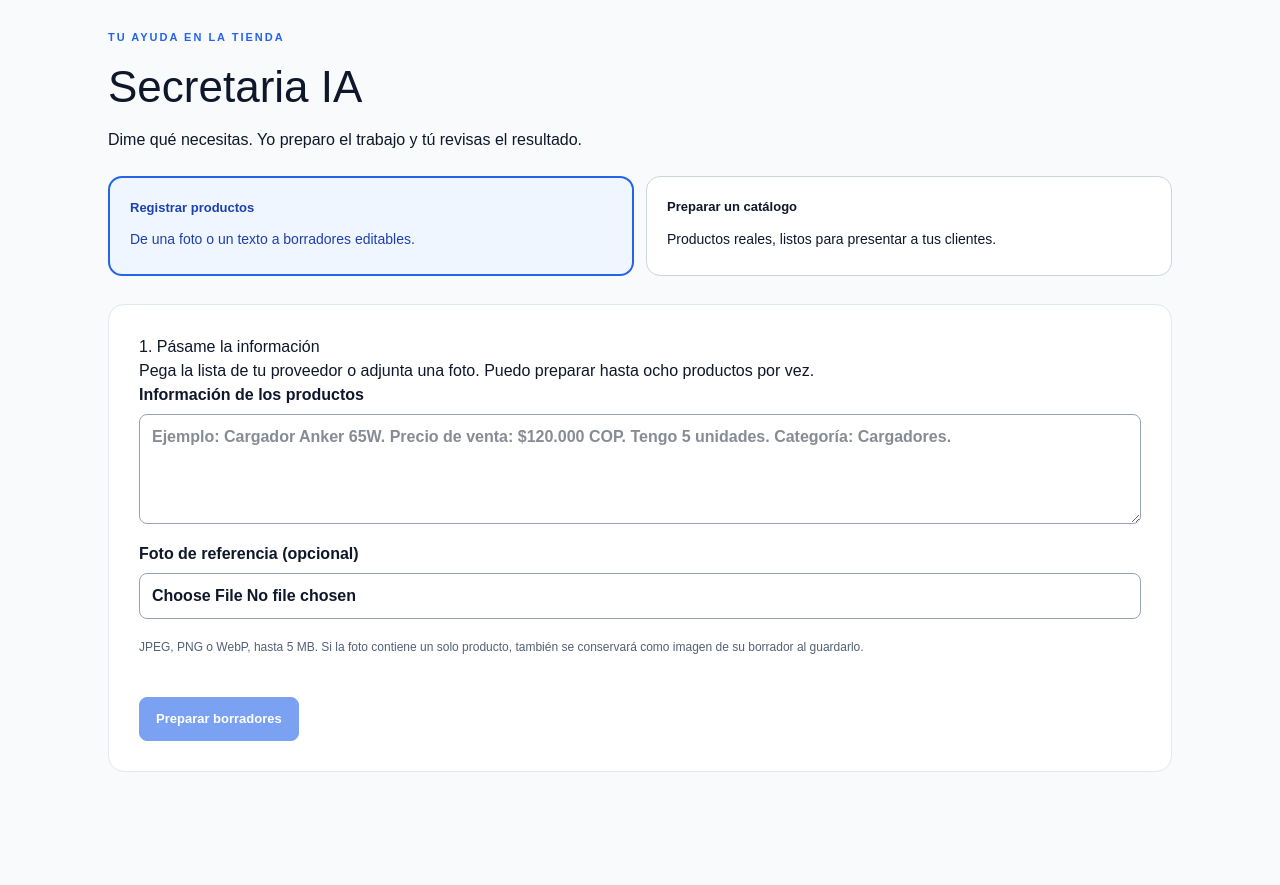
it: can create a brand read from the provider without leaving the review
Type "Mouse Logitech" into the text box labelled "Información de los productos".
click(640, 468); type("Mouse Logitech")  # box [139,414,1141,524]
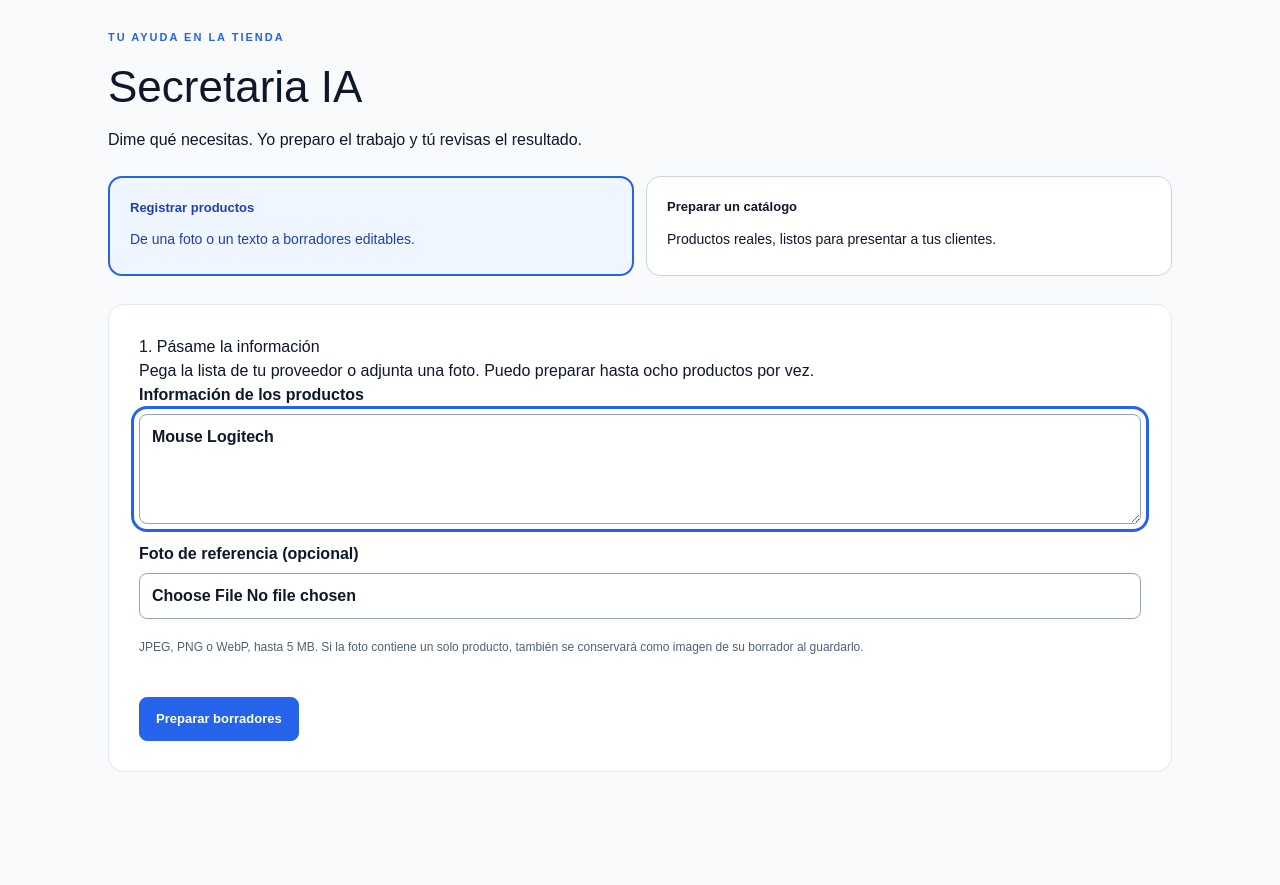
Click the button "Preparar borradores".
click(219, 719)  # box [139,697,299,741]
(page scrolled)
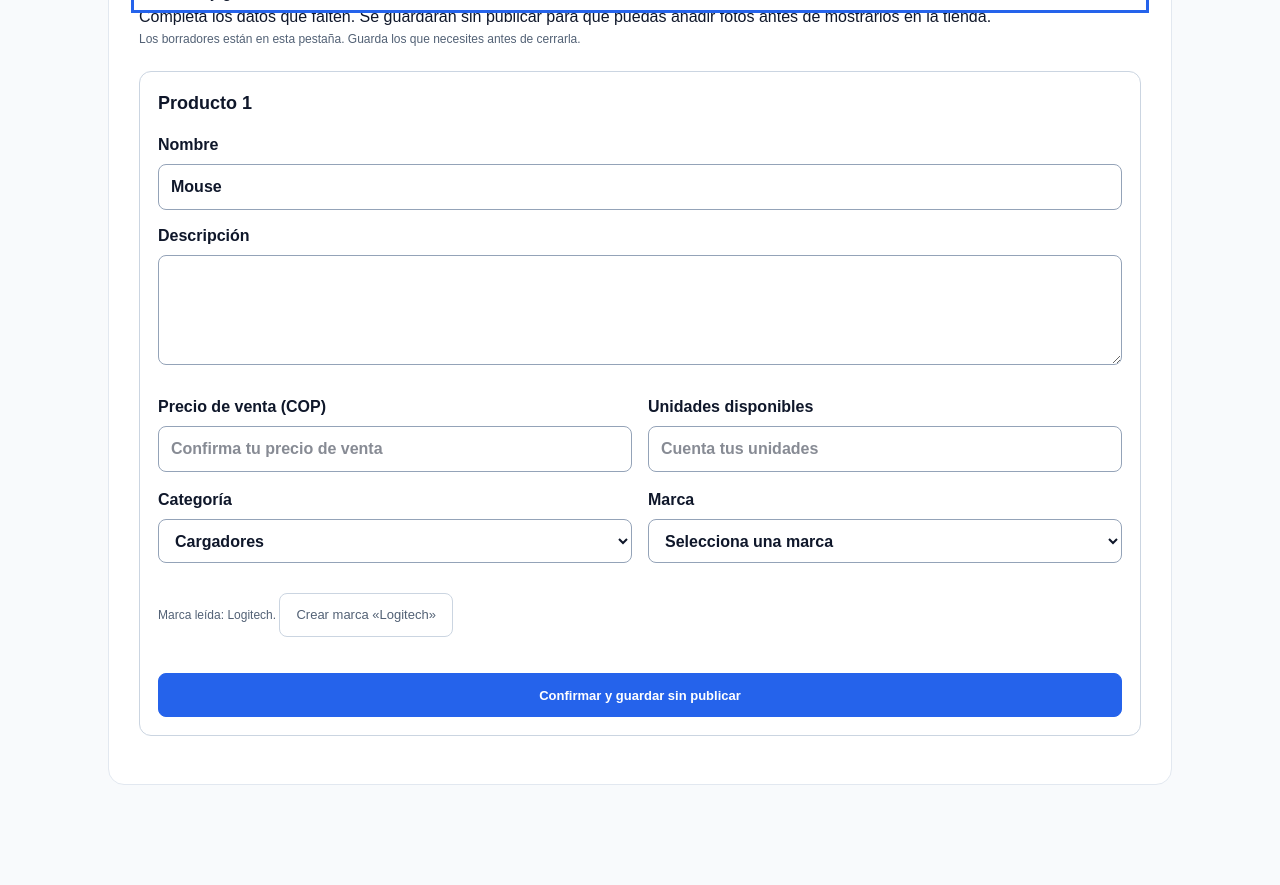
Click the button "Crear marca «Logitech»".
click(366, 615)  # box [279,593,453,637]
(page scrolled)
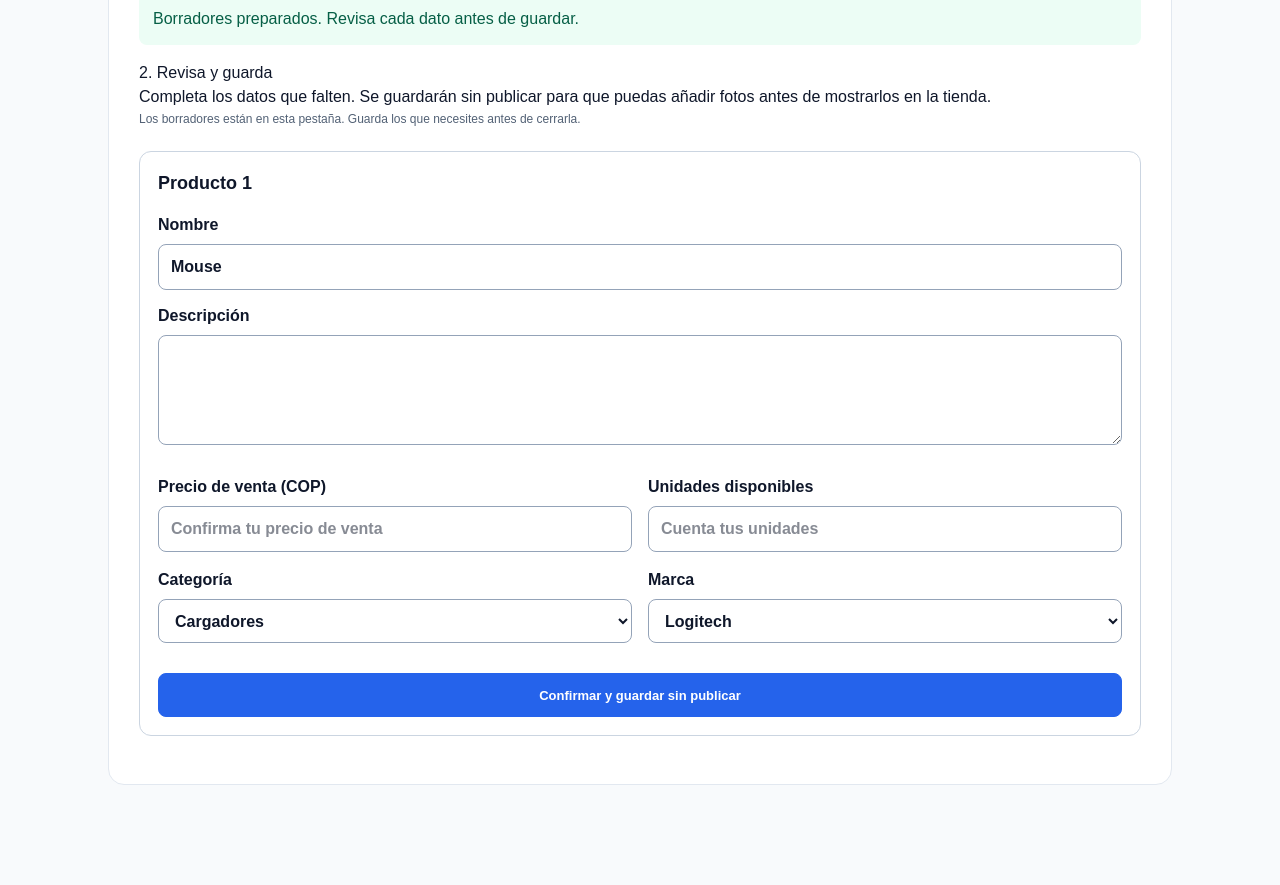
Expected: the button "Confirmar y guardar sin publicar" is shown, [158,673,1122,717]
Expected: the dropdown labelled "Marca" shows "Logitech", [648,599,1122,643]
